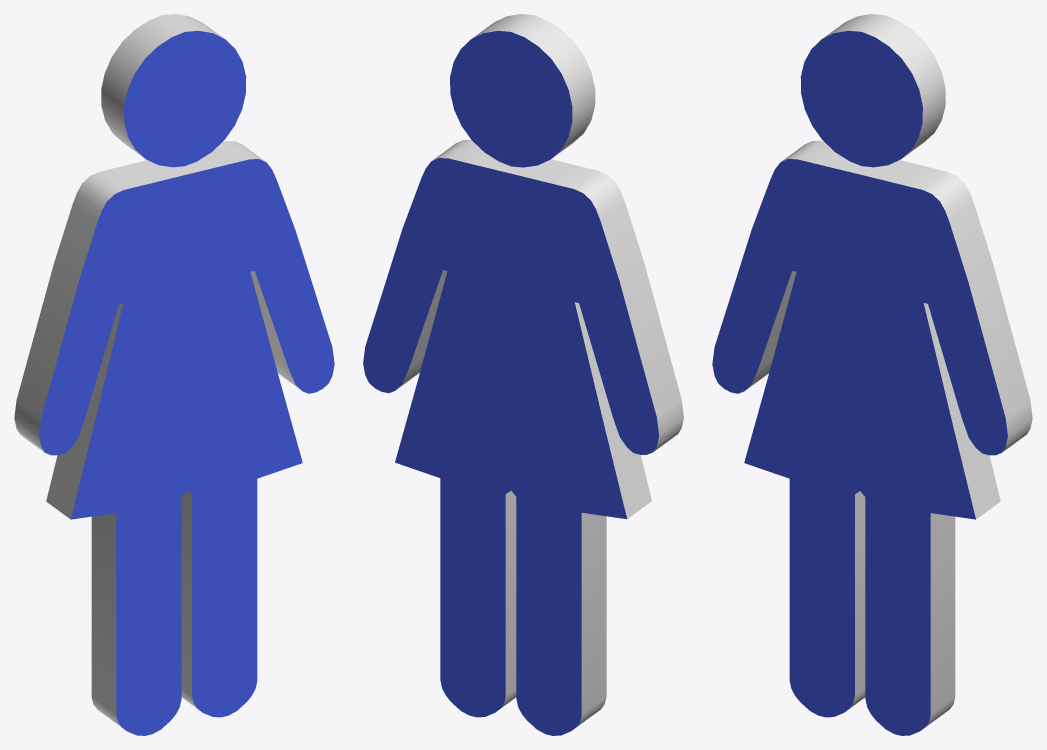
Rendered from Female Dummy B.fbx.
The picture shows the model from 3 angles, left to right: view 1: azimuth 30°, elevation 25°; view 2: azimuth 150°, elevation 25°; view 3: azimuth 330°, elevation 25°; orthographic projection.
Parts seen in each view (by area): view 1: Female Dummy B; view 2: Female Dummy B; view 3: Female Dummy B.
Boxes of the visible parts, x1,y1,x2,y2 form: Female Dummy B: (14, 14, 334, 735); Female Dummy B: (363, 14, 683, 735); Female Dummy B: (712, 14, 1032, 735).
Bounding box in the file's own units: 88.72 × 199 × 12.86.
